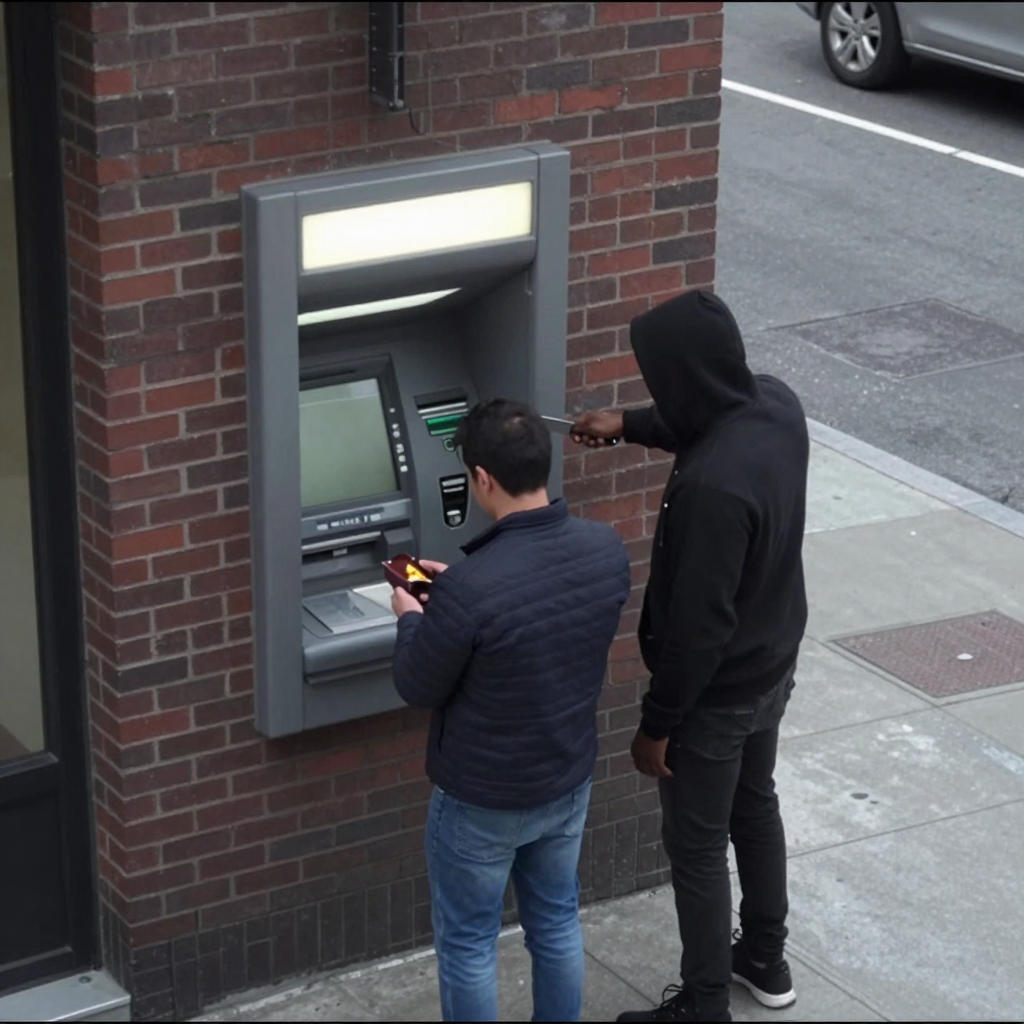Assault: (540, 414, 618, 448)
Robbery: (568, 288, 810, 1019), (385, 399, 631, 1022)
